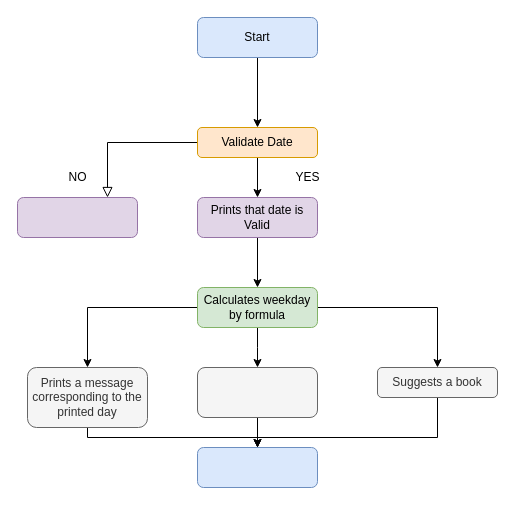
Some shapes in this 515 by 505 pixel diagram are drawn without their labels. The shapes that lost their labels are listed below. From the top down, each one's centre as x and y in pixels, then its label:
At (x=77, y=217): "INVALID DATE".
At (x=257, y=392): "Prints the Weekday".
At (x=257, y=467): "Stop".
